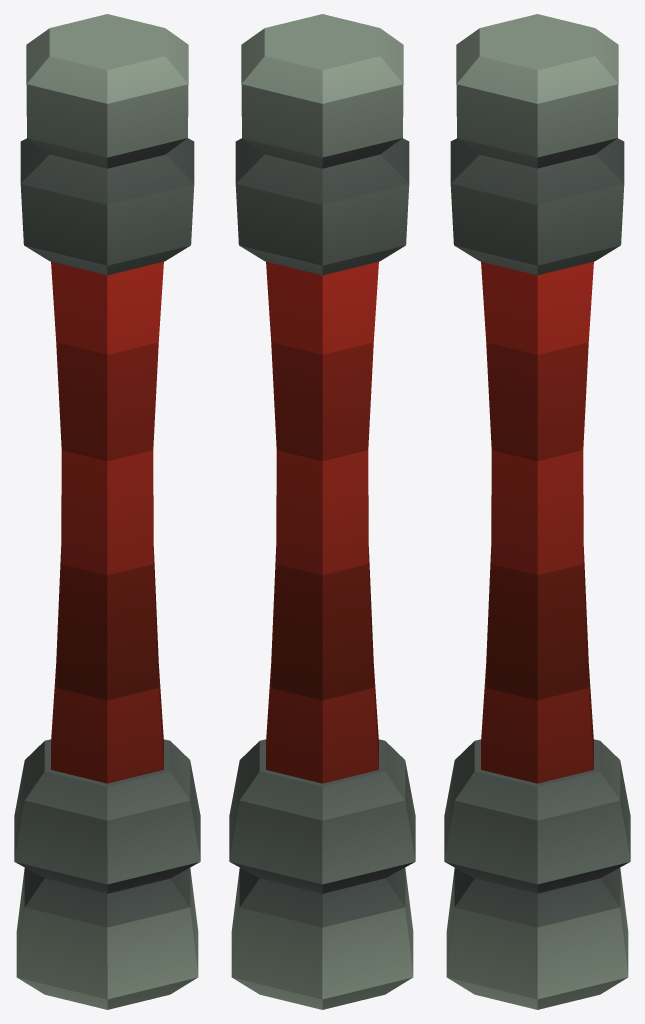
File: short-handle_001.fbx
3 renders of one model, left to right at view 1: azimuth 30°, elevation 25°; view 2: azimuth 150°, elevation 25°; view 3: azimuth 270°, elevation 25°, orthographic.
Parts seen in each view (by area): view 1: short-handle.001; view 2: short-handle.001; view 3: short-handle.001.
Part boxes in pixels (bbox=[...]): short-handle.001: bbox=[14, 14, 200, 1009]; short-handle.001: bbox=[229, 14, 415, 1009]; short-handle.001: bbox=[444, 14, 630, 1009].
Size of the model in its own units: 8.88 by 42.67 by 7.69.
